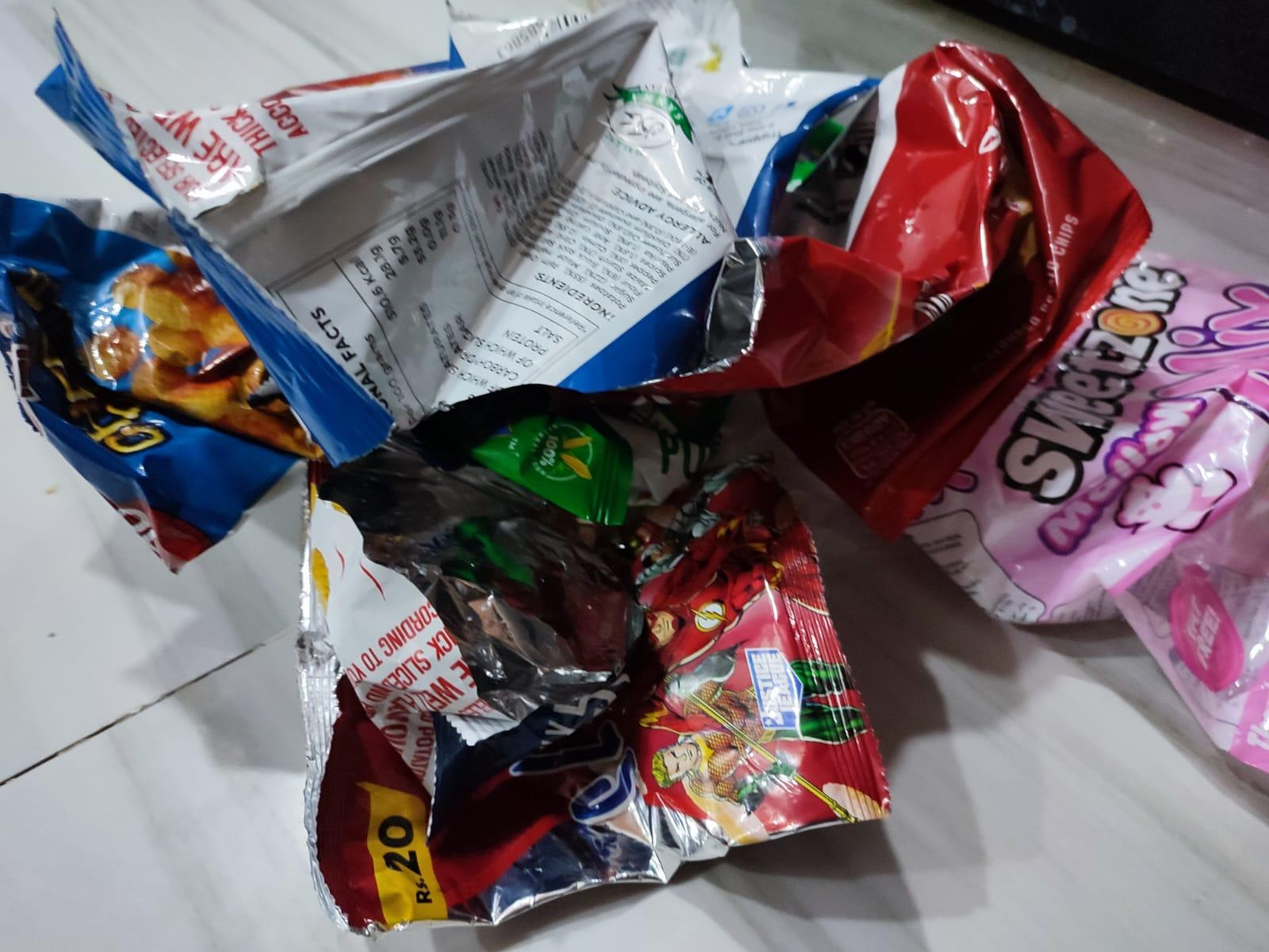garbage: (0, 28, 1269, 935)
